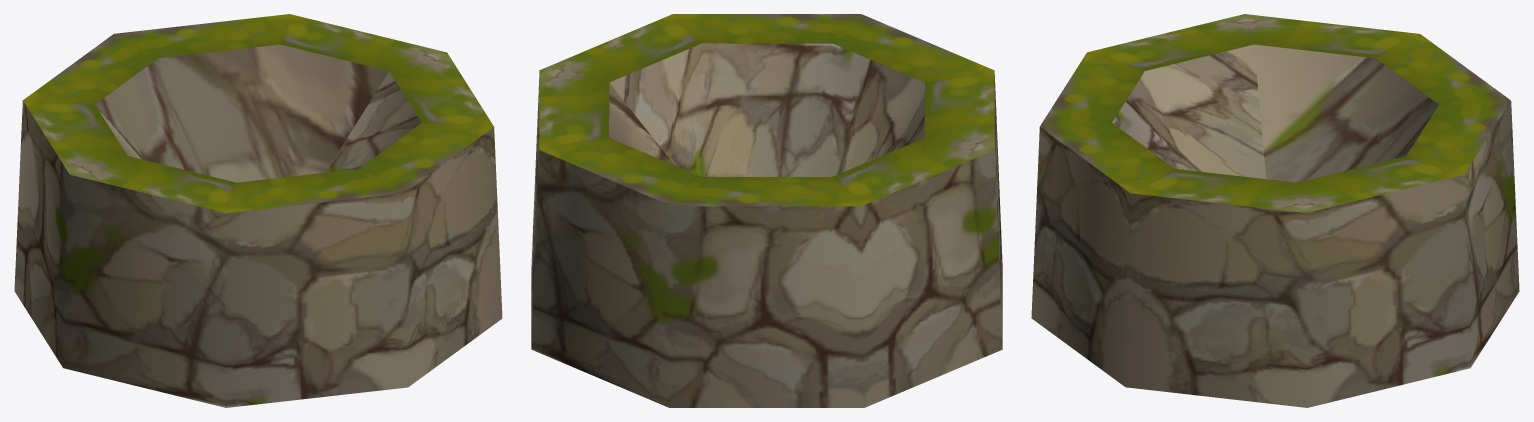
The model's file is sences_changbanpo_wujian021.FBX.
3 views of the same model, side by side, from view 1: azimuth 30°, elevation 25°; view 2: azimuth 150°, elevation 25°; view 3: azimuth 270°, elevation 25° (orthographic). The views are drawn at different scales.
Parts seen in each view (by area): view 1: sences_changbanpo_wujian021; view 2: sences_changbanpo_wujian021; view 3: sences_changbanpo_wujian021.
Part boxes in pixels (x1=…): sences_changbanpo_wujian021: x1=14, y1=14, x2=502, y2=407; sences_changbanpo_wujian021: x1=531, y1=14, x2=1002, y2=407; sences_changbanpo_wujian021: x1=1031, y1=14, x2=1519, y2=407.
Size of the model in its own units: 1.88 by 1.88 by 0.815.
